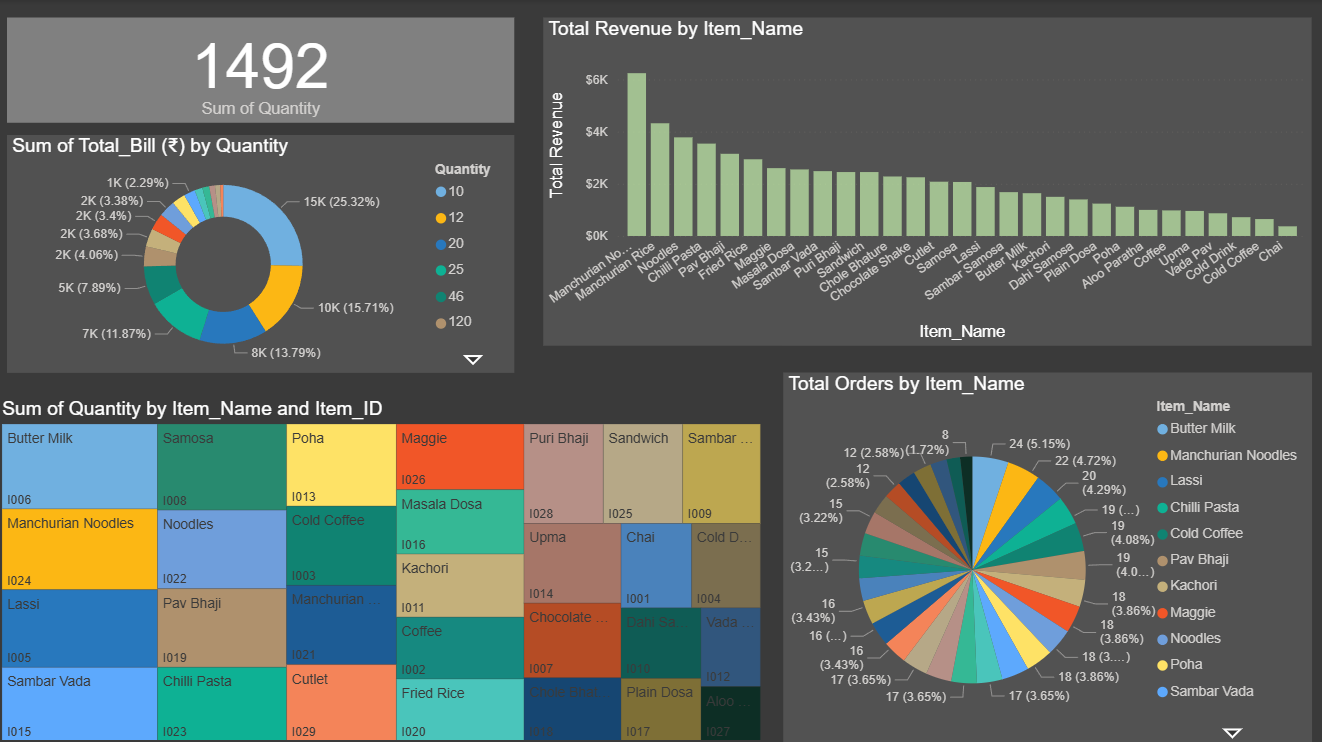

This screenshot's page, from the dashboard's own definition file:
{"tool":"powerbi","page":{"name":"Item_Details","canvas":[1280,720],"ordinal":3},"visuals":[{"type":"card","fields":{"Values":["Sum(Customer_Billing.Quantity)"]},"box":[9.7,16.9,489.8,101.3],"z":2000},{"type":"pieChart","fields":{"Category":["Customer_Billing.Item_Name"],"Y":["Customer_Billing.Total Orders"]},"box":[758.9,359.5,510.3,360.7],"z":3000},{"type":"treemap","fields":{"Group":["Customer_Billing.Item_Name"],"Details":["Customer_Billing.Item_ID"],"Values":["Sum(Customer_Billing.Quantity)"]},"box":[0,383.6,742,336.6],"z":4000},{"type":"donutChart","fields":{"Category":["Item_Details.Quantity"],"Y":["Sum(Customer_Billing.Total_Bill (₹))"]},"box":[9.7,130.3,489.8,229.2],"z":5000},{"type":"clusteredColumnChart","fields":{"Category":["Customer_Billing.Item_Name"],"Y":["Customer_Billing.Total Revenue"]},"box":[526.7,16.7,741.7,316.7],"z":6000}]}

Visuals, with their boxes in screenshot pixels (x1, y1, x2, y2), scaled from the page's 1280x720 canvas onto the 1322x742 screenshot:
card - Sum(Customer_Billing.Quantity): bbox=[10, 17, 516, 122]
pieChart - Customer_Billing.Item_Name x Customer_Billing.Total Orders: bbox=[784, 370, 1311, 741]
treemap - Customer_Billing.Item_Name x Customer_Billing.Item_ID: bbox=[0, 395, 766, 741]
donutChart - Item_Details.Quantity x Sum(Customer_Billing.Total_Bill (₹)): bbox=[10, 134, 516, 370]
clusteredColumnChart - Customer_Billing.Item_Name x Customer_Billing.Total Revenue: bbox=[544, 17, 1310, 344]
